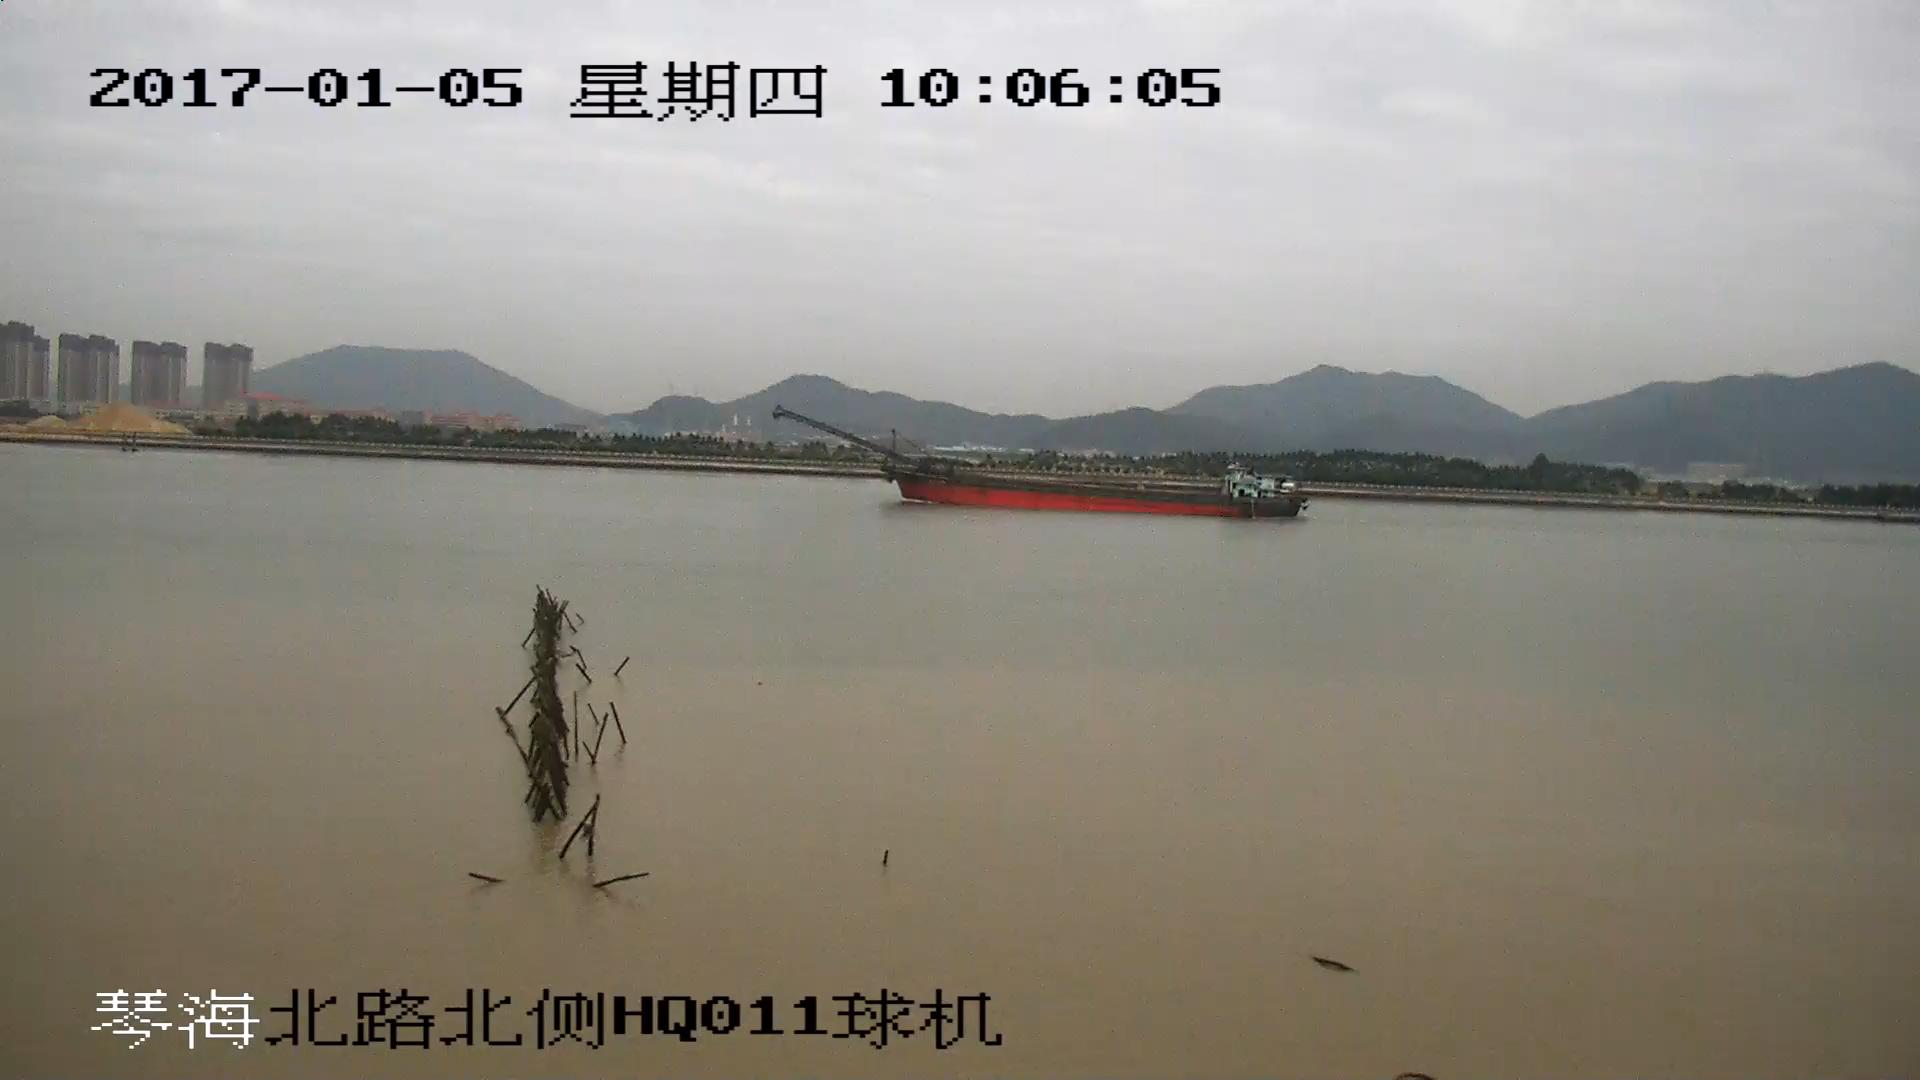bulk cargo carrier: (776, 413, 1307, 517)
